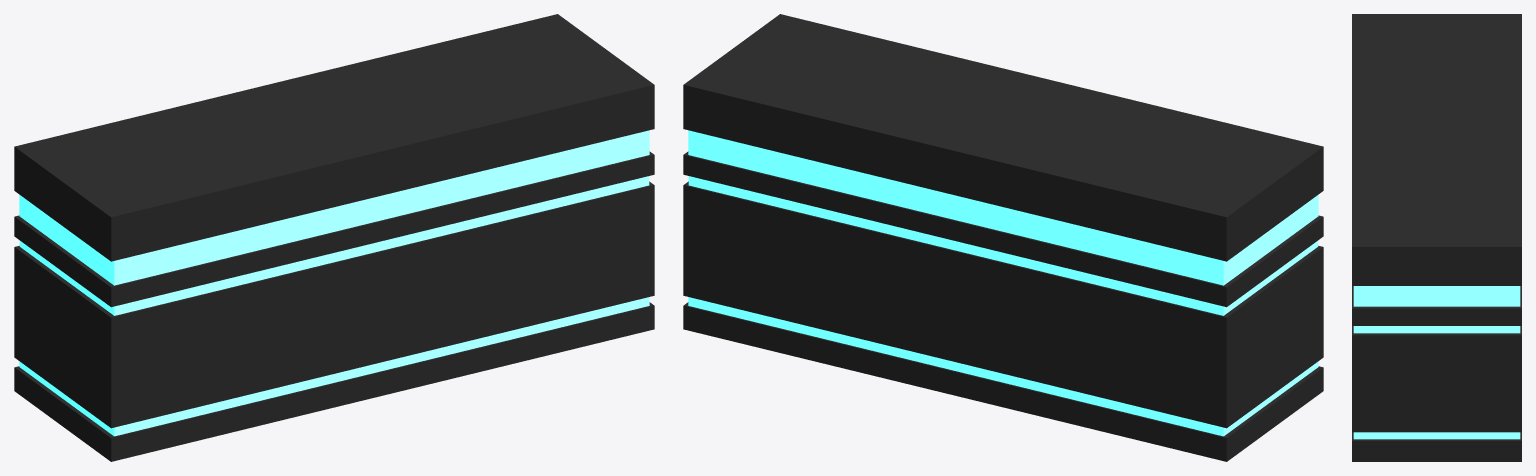
The model's file is Low Wall.fbx.
3 renders of one model, left to right at view 1: azimuth 30°, elevation 25°; view 2: azimuth 150°, elevation 25°; view 3: azimuth 270°, elevation 25°, orthographic. The views are drawn at different scales.
Parts seen in each view (by area): view 1: Low Wall; view 2: Low Wall; view 3: Low Wall.
Part boxes in pixels (left/top/right/bottom): Low Wall: left=14, top=14, right=654, bottom=461; Low Wall: left=683, top=14, right=1323, bottom=461; Low Wall: left=1352, top=14, right=1521, bottom=461.
Bounding box in the file's own units: 629 × 194 × 270.
